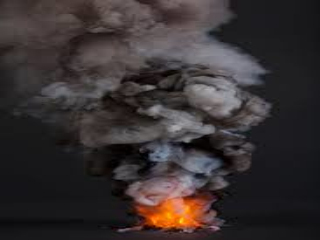fire: (127, 195, 211, 232)
smoke: (34, 9, 270, 192)
